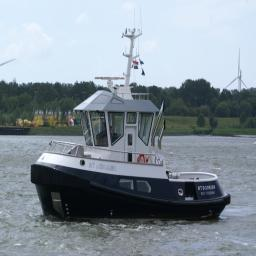tugboat: (30, 28, 234, 229)
